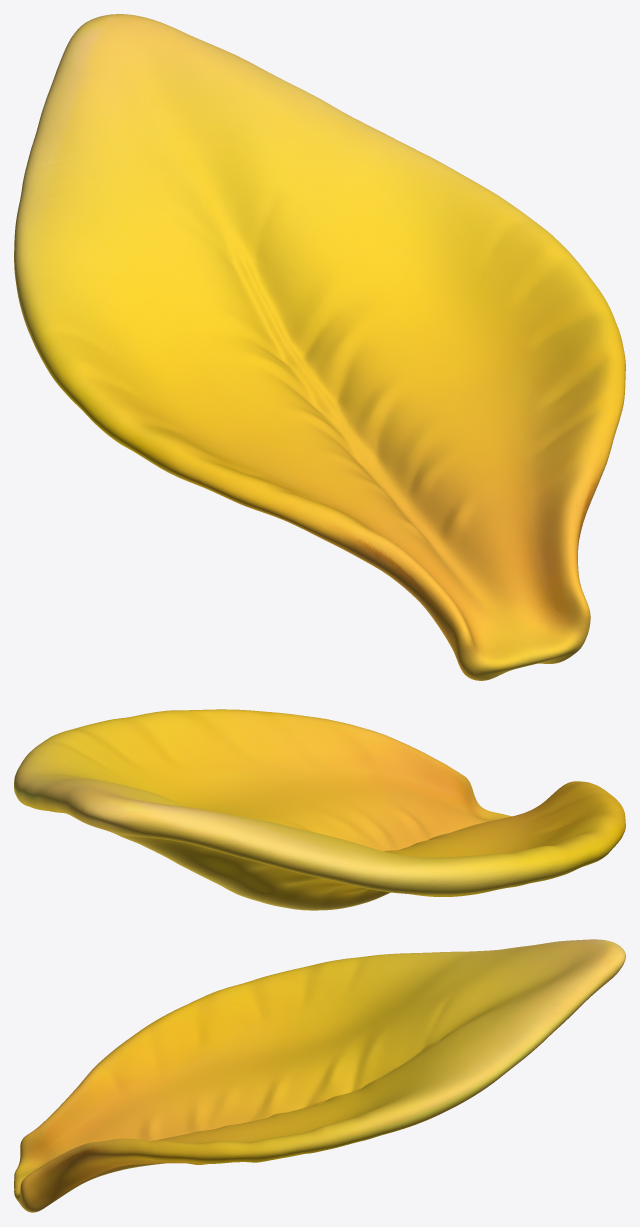
Rendered from Meshy_AI_j_ai_besoin_d_un_pét_0603111535_texture.fbx.
3 renders of one model, top to bottom at view 1: azimuth 30°, elevation 25°; view 2: azimuth 150°, elevation 25°; view 3: azimuth 270°, elevation 25°, orthographic. The views are drawn at different scales.
Parts seen in each view (by area): view 1: Mesh_0; view 2: Mesh_0; view 3: Mesh_0.
Part boxes in pixels (x1,y1,x2,y2): Mesh_0: (14,14,625,680); Mesh_0: (14,709,625,910); Mesh_0: (14,939,625,1212).
Bounding box in the file's own units: 130 × 85.62 × 190.
Materials: 1 (1 with a texture image).
